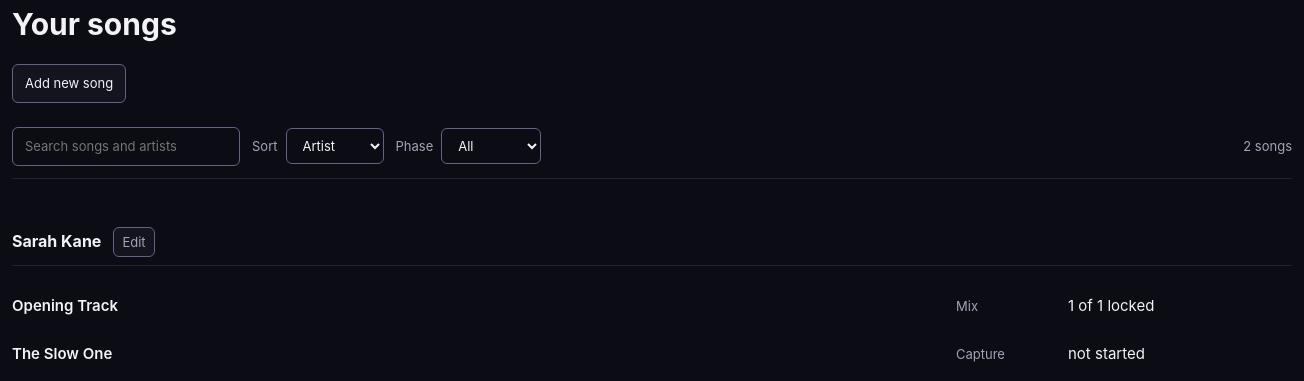
it: SongsPage › drops the songs into the group at the end when the name is emptied
The image size is (1304, 381).
Expected: the heading "Sarah Kane" is shown, left=12, top=229, right=101, bottom=254
Click the button with aria-label "Edit Sarah Kane".
click(134, 242)  # box left=113, top=227, right=155, bottom=257
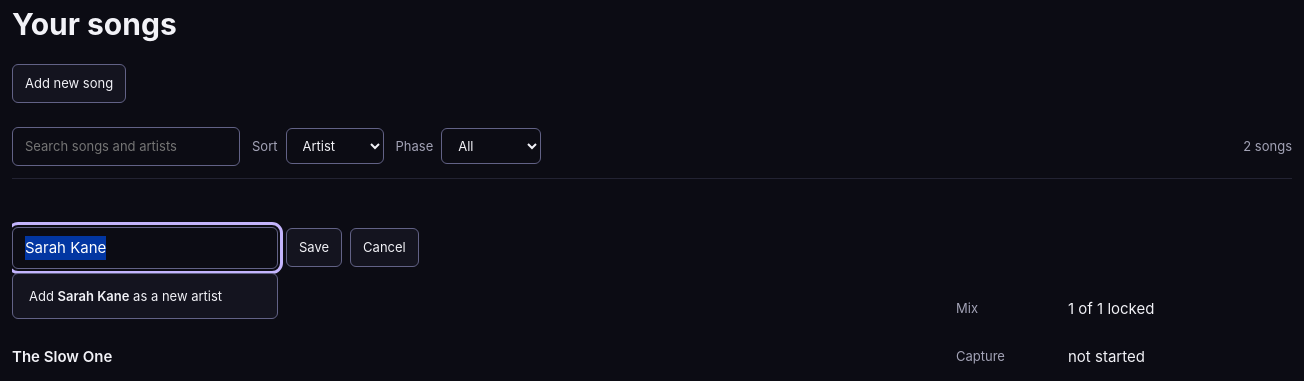
Clear the dropdown named "Artist name" at (145, 248), box left=12, top=227, right=278, bottom=269
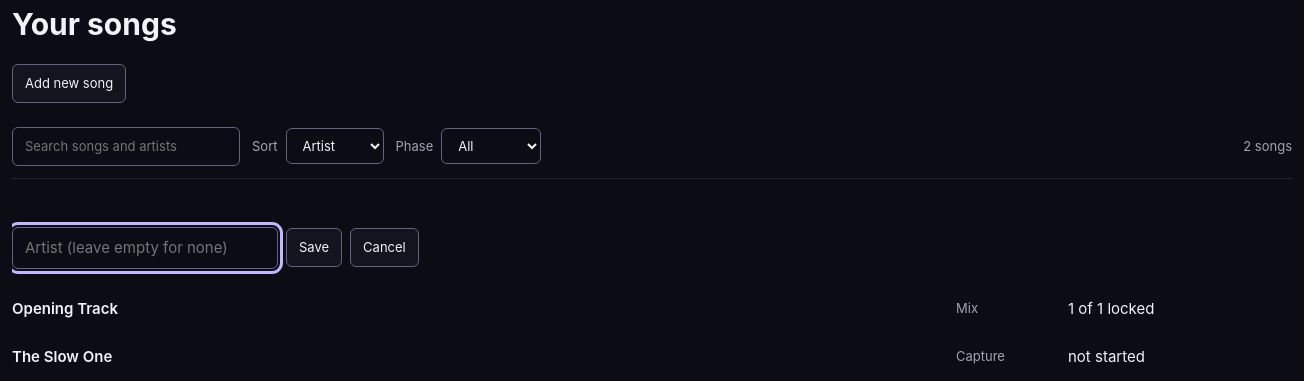
Click the button "Save".
click(314, 248)  # box left=286, top=228, right=342, bottom=267
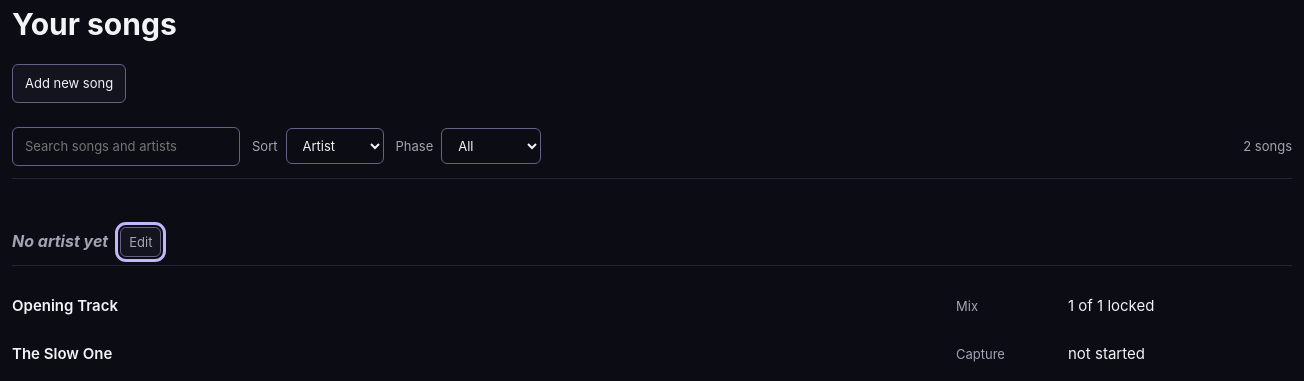
Expected: the heading "No artist yet" is shown, left=12, top=229, right=108, bottom=254
